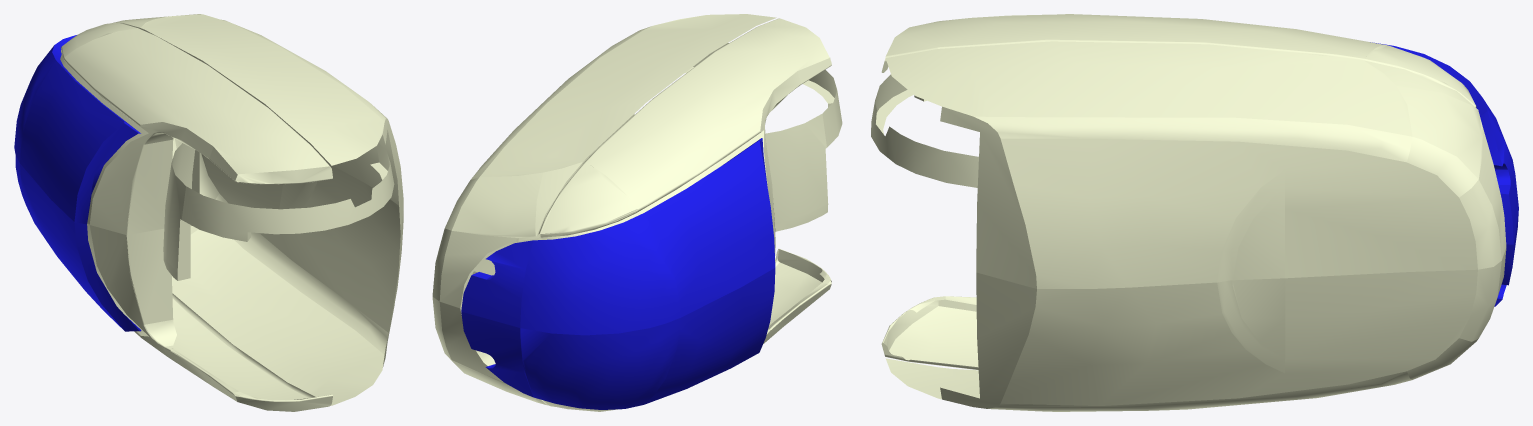
Rendered from finger_distal.dae.
3 renders of one model, left to right at view 1: azimuth 30°, elevation 25°; view 2: azimuth 150°, elevation 25°; view 3: azimuth 270°, elevation 25°, orthographic. The views are drawn at different scales.
Visible parts, largest first — view 1: ShapeIndexedFaceS_018; view 2: ShapeIndexedFaceS_018; view 3: ShapeIndexedFaceS_018.
Boxes of the visible parts, x1,y1,x2,y2 form: ShapeIndexedFaceS_018: (14,14,403,411); ShapeIndexedFaceS_018: (432,14,842,411); ShapeIndexedFaceS_018: (871,14,1518,411).
Size of the model in its own units: 0.0292 by 0.0503 by 0.0286.
